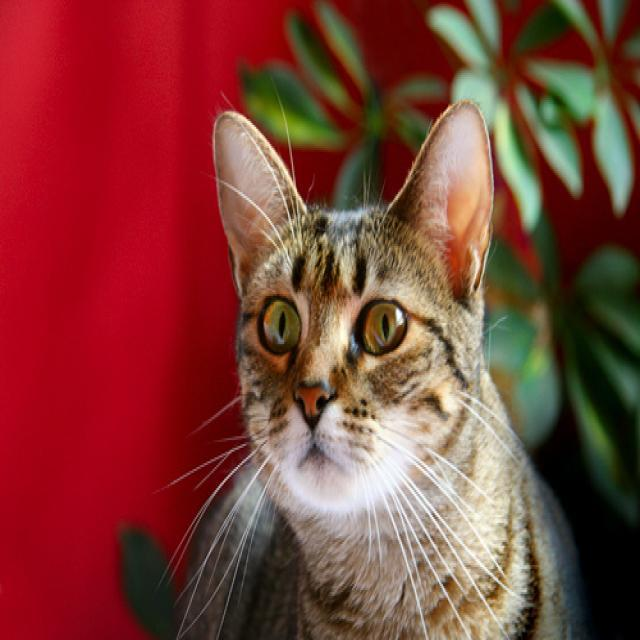cat: (205, 102, 582, 638)
